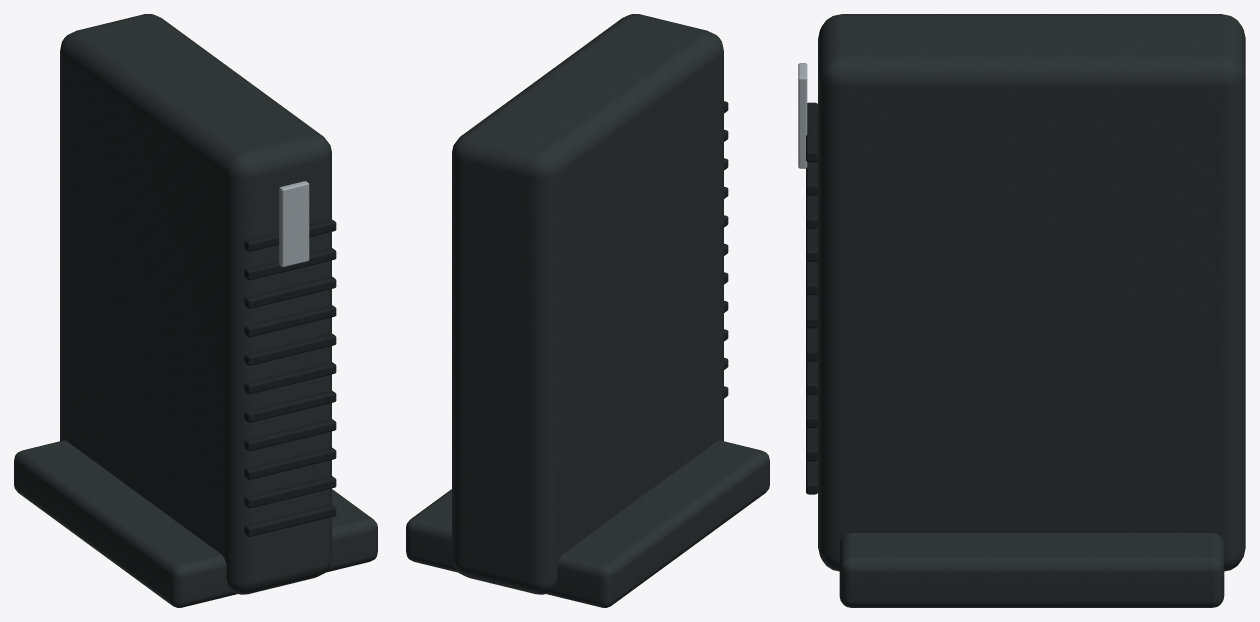
Rendered from external.glb.
3 views of the same model, side by side, from view 1: azimuth 30°, elevation 25°; view 2: azimuth 150°, elevation 25°; view 3: azimuth 270°, elevation 25° (orthographic). The views are drawn at different scales.
Parts seen in each view (by area): view 1: Upright archive enclosure, Archive support foot, Silver status strip, Drive cooling rib.003, Drive cooling rib.005, Drive cooling rib.008, Drive cooling rib, Drive cooling rib.001, Drive cooling rib.004, Drive cooling rib.007, Drive cooling rib.002, Drive cooling rib.006 (+2 smaller); view 2: Upright archive enclosure, Archive support foot; view 3: Upright archive enclosure, Archive support foot, Silver status strip, Drive cooling rib.010.
Part boxes in pixels (x1,y1,x2,y2): Upright archive enclosure: (60, 14, 331, 594); Archive support foot: (14, 440, 377, 607); Silver status strip: (279, 181, 309, 267); Drive cooling rib.003: (244, 418, 336, 451); Drive cooling rib.005: (244, 361, 336, 394); Drive cooling rib.008: (244, 276, 336, 308); Drive cooling rib: (244, 504, 336, 536); Drive cooling rib.001: (244, 475, 336, 508); Drive cooling rib.004: (244, 390, 336, 422); Drive cooling rib.007: (244, 304, 336, 337); Drive cooling rib.002: (244, 447, 336, 479); Drive cooling rib.006: (244, 333, 336, 365); Upright archive enclosure: (452, 14, 723, 594); Archive support foot: (406, 440, 769, 607); Upright archive enclosure: (818, 14, 1245, 571); Archive support foot: (839, 533, 1224, 607); Silver status strip: (798, 63, 807, 168); Drive cooling rib.010: (806, 102, 817, 162).
Size of the model in its own units: 0.091 by 0.187 by 0.1465.
3 materials, 3 textured.
